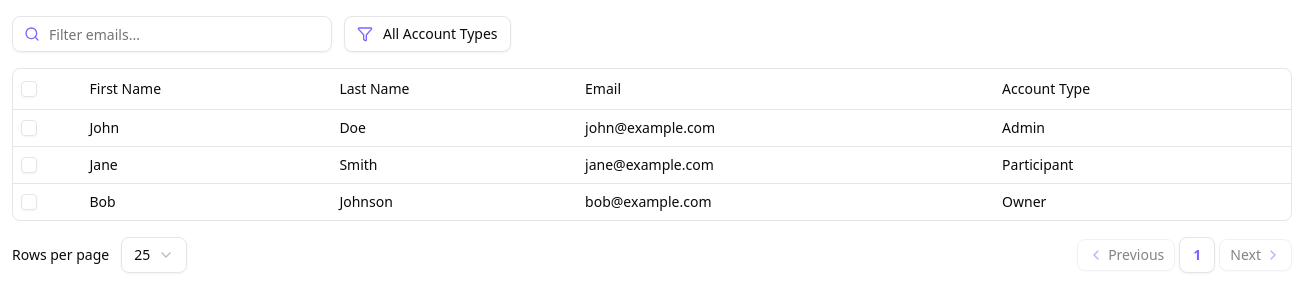
Test: ManageAccountsDataTable › row selection › clears row selection when cancel button is clicked
Click the checkbox named "Select row 0" at (29,128), box [21,120,37,136]
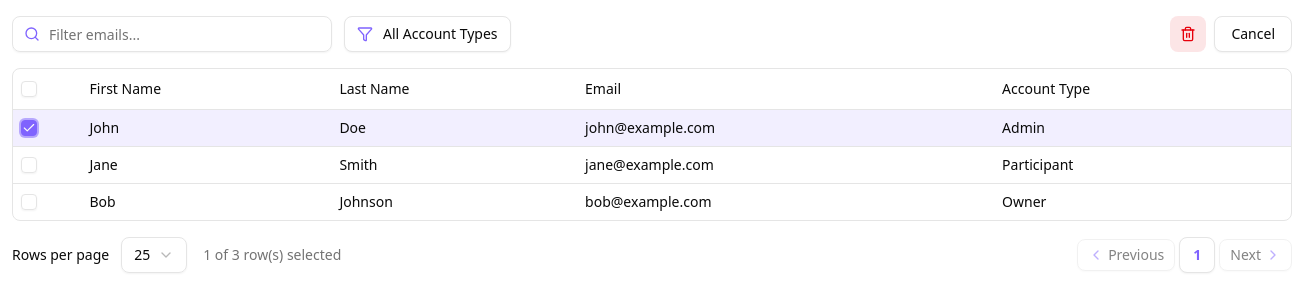
Click the button "Cancel" at (1253,34), box [1214,16,1292,52]
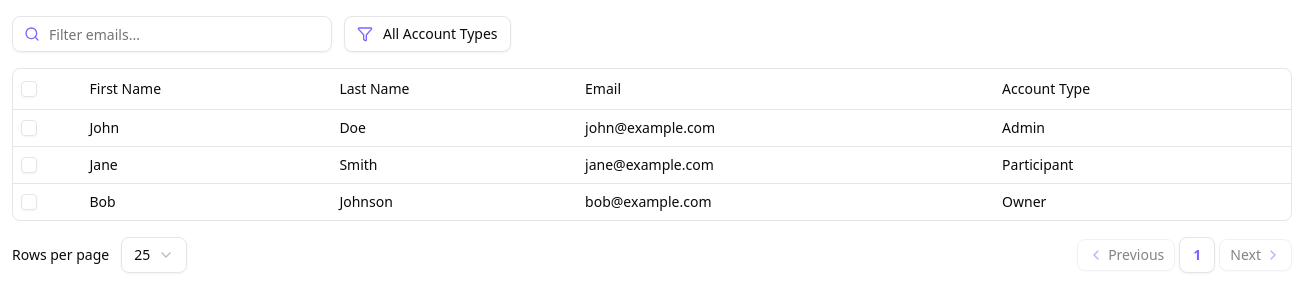
Result: the text "row(s) selected" is gone
